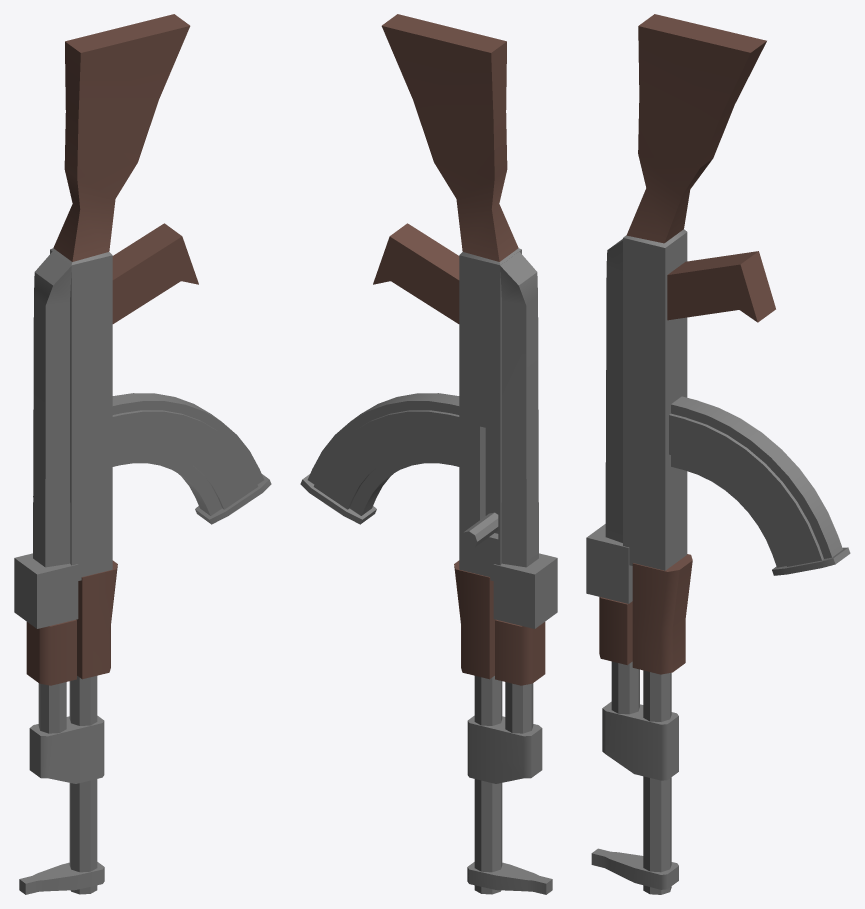
The model's file is Assault Rifle.fbx.
3 renders of one model, left to right at view 1: azimuth 30°, elevation 25°; view 2: azimuth 150°, elevation 25°; view 3: azimuth 330°, elevation 25°, orthographic. The views are drawn at different scales.
Parts seen in each view (by area): view 1: pCylinder4; view 2: pCylinder4; view 3: pCylinder4.
Boxes of the visible parts, box(x1,y1,x2,y2) form: pCylinder4: box(14, 14, 271, 894); pCylinder4: box(300, 14, 557, 894); pCylinder4: box(586, 14, 850, 894).
Bounding box in the file's own units: 4.64 × 15.48 × 1.4.
